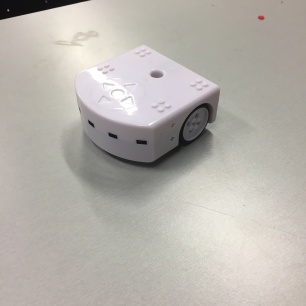thymio: (64, 40, 225, 178)
